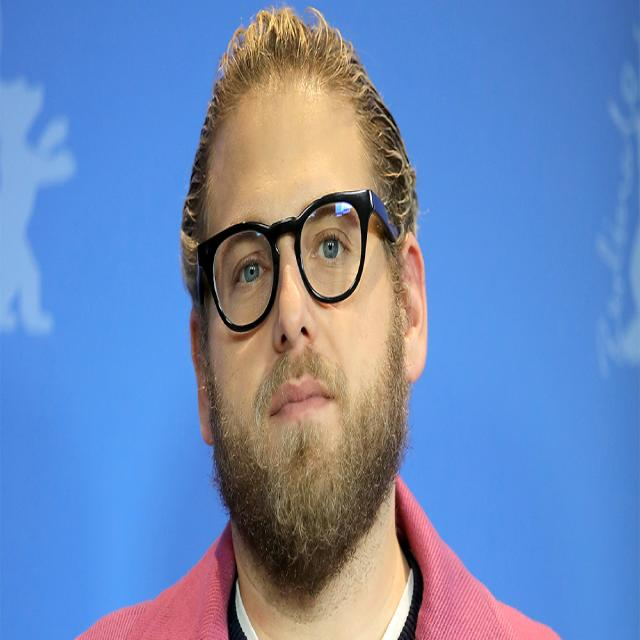adult: (59, 3, 563, 640)
